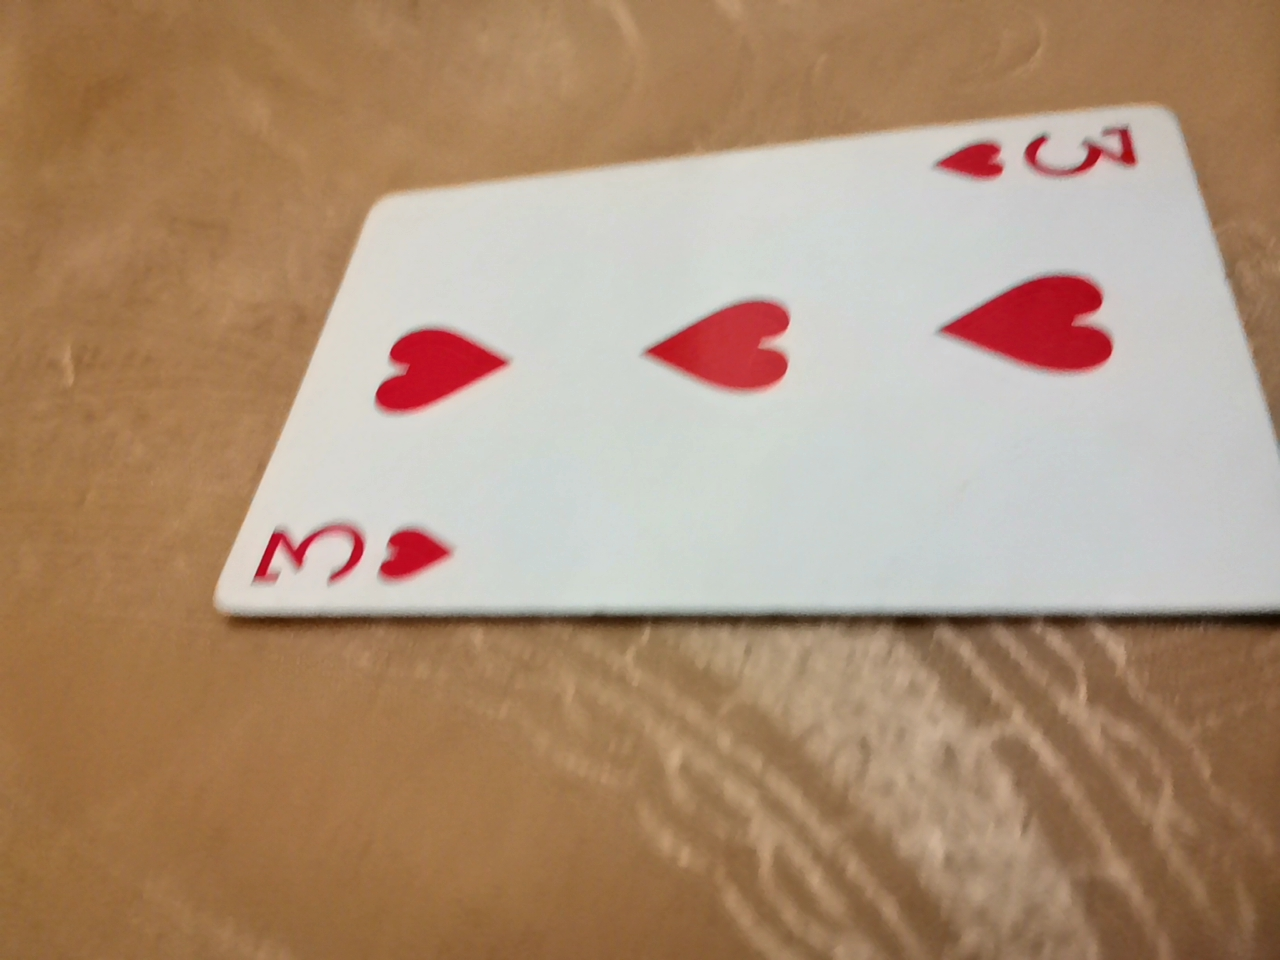hx 3: (198, 141, 1264, 687)
